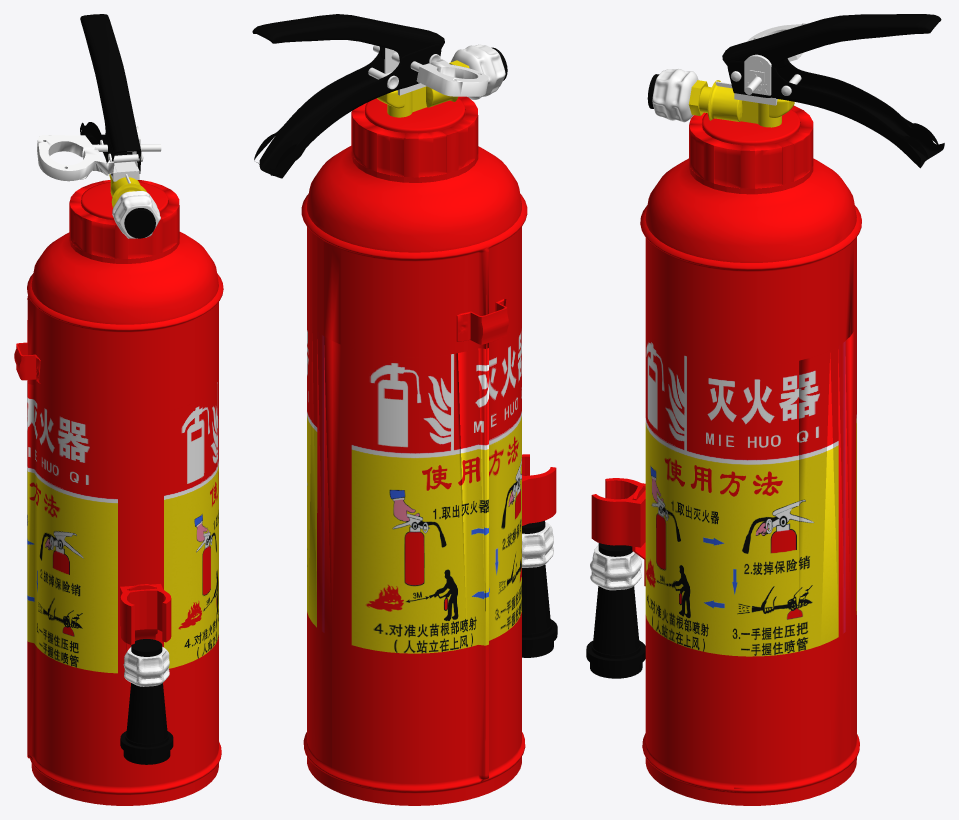
Rendered from 灭火器.FBX.
The picture shows the model from 3 angles, left to right: view 1: azimuth 30°, elevation 25°; view 2: azimuth 150°, elevation 25°; view 3: azimuth 270°, elevation 25°; orthographic projection. The views are drawn at different scales.
Parts seen in each view (by area): view 1: miehuoqi_11, 对象001, miehuoqi_01, UpperHandle, Cylinder12, miehuoqi_09, Loft_Hose, 对象002, miehuoqi_03, miehuoqi_02; view 2: miehuoqi_11, miehuoqi_01, miehuoqi_03, UpperHandle, 对象001, miehuoqi_09, Cylinder12, Loft_Hose; view 3: miehuoqi_11, miehuoqi_01, 对象001, miehuoqi_03, UpperHandle, Loft_Hose, miehuoqi_09, miehuoqi_02, miehuoqi_06.
Part boxes in pixels (<box>): miehuoqi_11: <box>14,154,223,805</box>; 对象001: <box>120,639,173,764</box>; miehuoqi_01: <box>69,180,179,263</box>; UpperHandle: <box>80,14,141,162</box>; Cylinder12: <box>37,135,161,181</box>; miehuoqi_09: <box>81,182,168,220</box>; Loft_Hose: <box>112,190,160,238</box>; 对象002: <box>124,208,155,238</box>; miehuoqi_03: <box>80,122,141,175</box>; miehuoqi_02: <box>110,177,146,207</box>; miehuoqi_11: <box>301,71,556,805</box>; miehuoqi_01: <box>351,96,478,182</box>; miehuoqi_03: <box>254,44,441,178</box>; UpperHandle: <box>252,14,444,61</box>; 对象001: <box>522,520,557,657</box>; miehuoqi_09: <box>365,98,464,133</box>; Cylinder12: <box>373,45,488,96</box>; Loft_Hose: <box>449,44,505,99</box>; miehuoqi_11: <box>591,70,861,805</box>; miehuoqi_01: <box>689,105,813,194</box>; 对象001: <box>586,543,645,678</box>; miehuoqi_03: <box>727,58,944,168</box>; UpperHandle: <box>722,14,941,70</box>; Loft_Hose: <box>652,69,711,122</box>; miehuoqi_09: <box>702,109,800,145</box>; miehuoqi_02: <box>707,80,742,121</box>; miehuoqi_06: <box>744,54,771,95</box>.
Bounding box in the file's own units: 0.1679 × 0.6179 × 0.2582.
2 materials, 1 textured.
